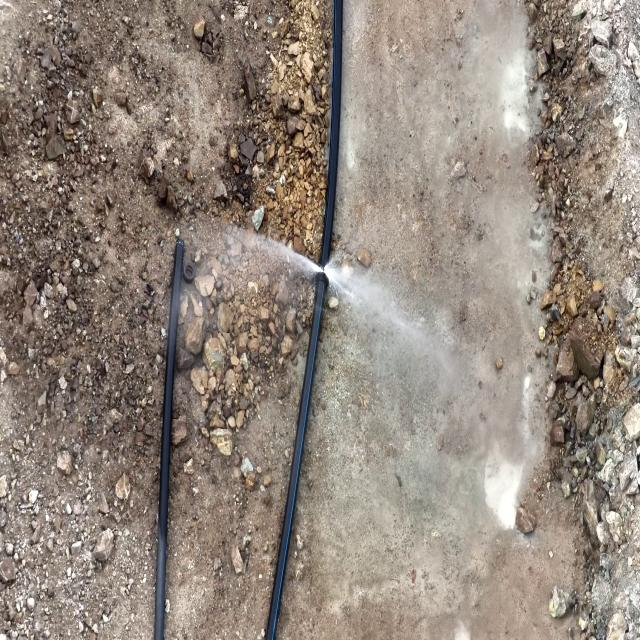leak: (206, 218, 369, 306)
